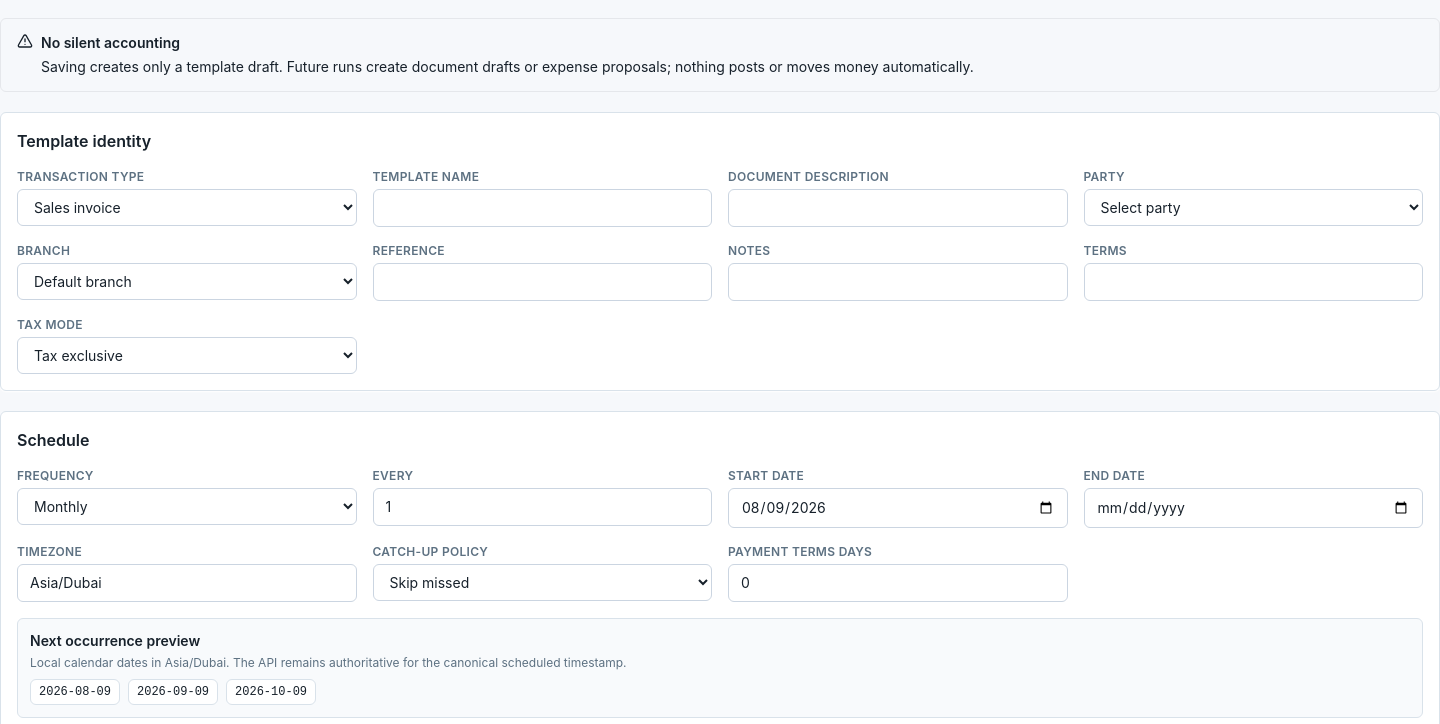
Test: NewRecurringTransactionPage › switches to balanced debit and credit inputs for manual journals
Select "Manual journal" in the dropdown labelled "Transaction type" at (187, 208), box x1=17 y1=189 x2=356 y2=226
(page scrolled)
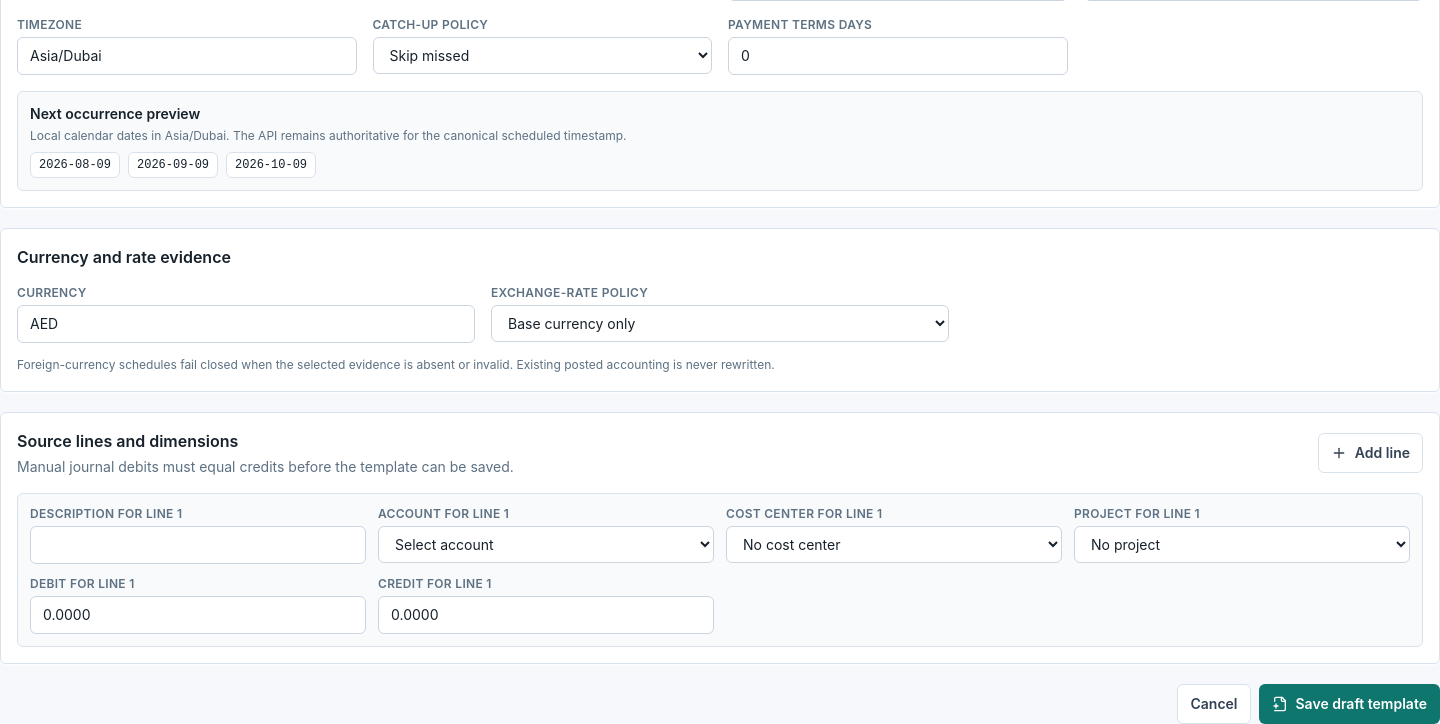
Now the field labelled "Debit for line 1" is shown, box x1=30 y1=596 x2=366 y2=634
Now the field labelled "Credit for line 1" is shown, box x1=378 y1=596 x2=714 y2=634
Now the text labelled "Party" is gone
